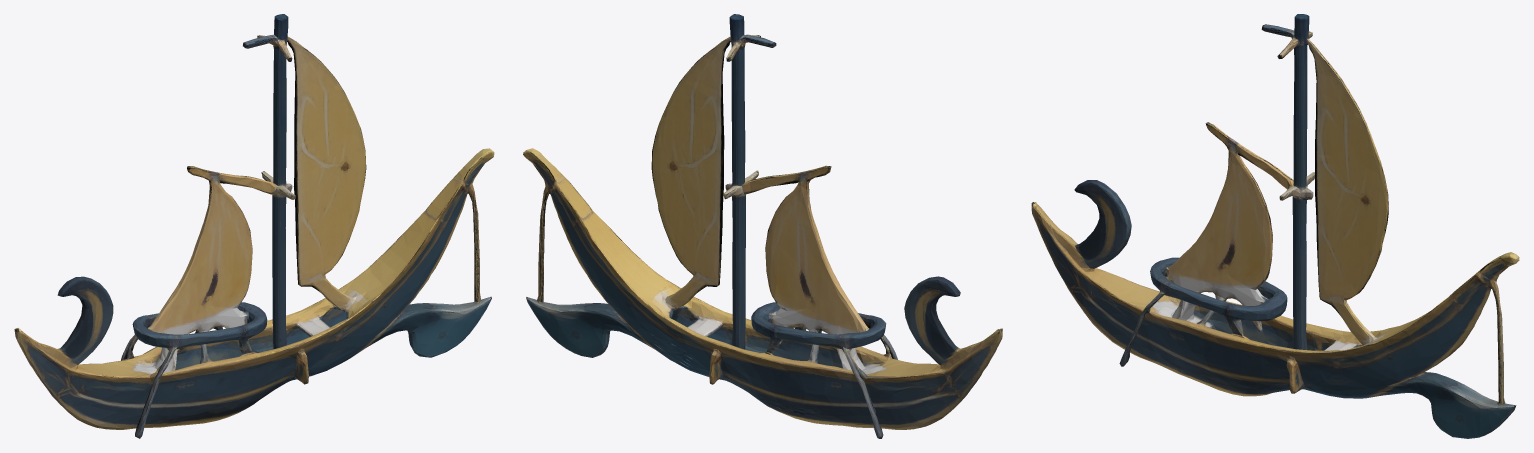
File: perahu.glb
3 views of the same model, side by side, from view 1: azimuth 30°, elevation 25°; view 2: azimuth 150°, elevation 25°; view 3: azimuth 330°, elevation 25° (orthographic).
Parts seen in each view (by area): view 1: geometry_0; view 2: geometry_0; view 3: geometry_0.
Part boxes in pixels (x1,y1,x2,y2): geometry_0: (14,14,494,438); geometry_0: (523,14,1002,438); geometry_0: (1031,14,1519,438).
Bounding box in the file's own units: 0.9959 × 0.7724 × 0.1361.
Materials: 1 (1 with a texture image).
